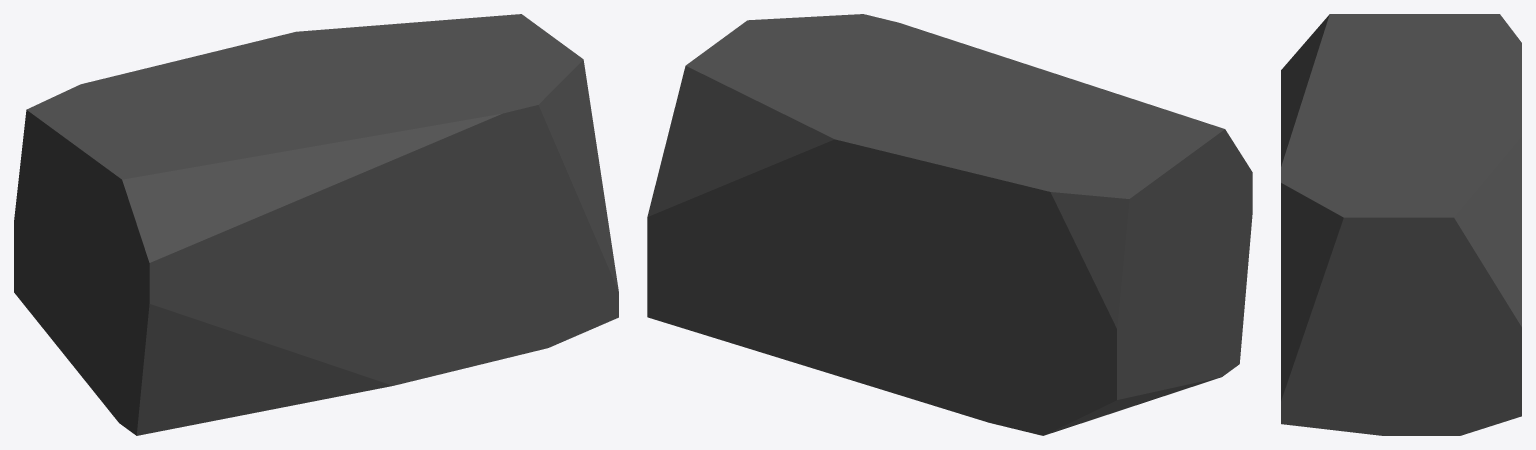
File: Brick_A_06.FBX
3 renders of one model, left to right at view 1: azimuth 30°, elevation 25°; view 2: azimuth 150°, elevation 25°; view 3: azimuth 270°, elevation 25°, orthographic. The views are drawn at different scales.
Parts seen in each view (by area): view 1: Brick_A_06; view 2: Brick_A_06; view 3: Brick_A_06.
Boxes of the visible parts, left/top/right/bottom form: Brick_A_06: left=14, top=14, right=618, bottom=435; Brick_A_06: left=647, top=14, right=1252, bottom=435; Brick_A_06: left=1281, top=14, right=1521, bottom=435.
Bounding box in the file's own units: 2 × 1 × 1.
